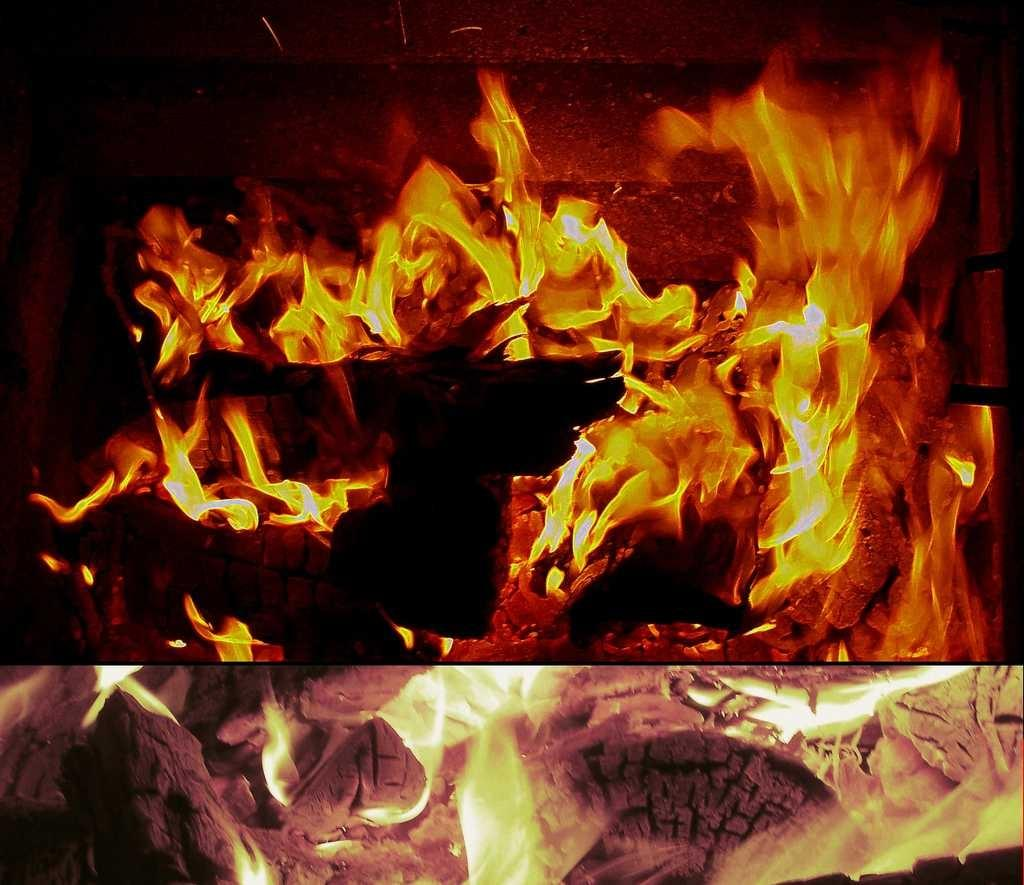fire: (770, 147, 935, 582), (235, 240, 628, 325), (550, 402, 752, 558)
